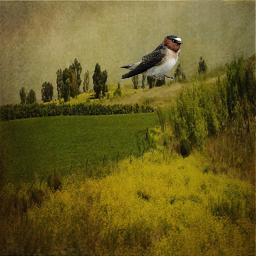Swallow: (119, 33, 185, 82)
